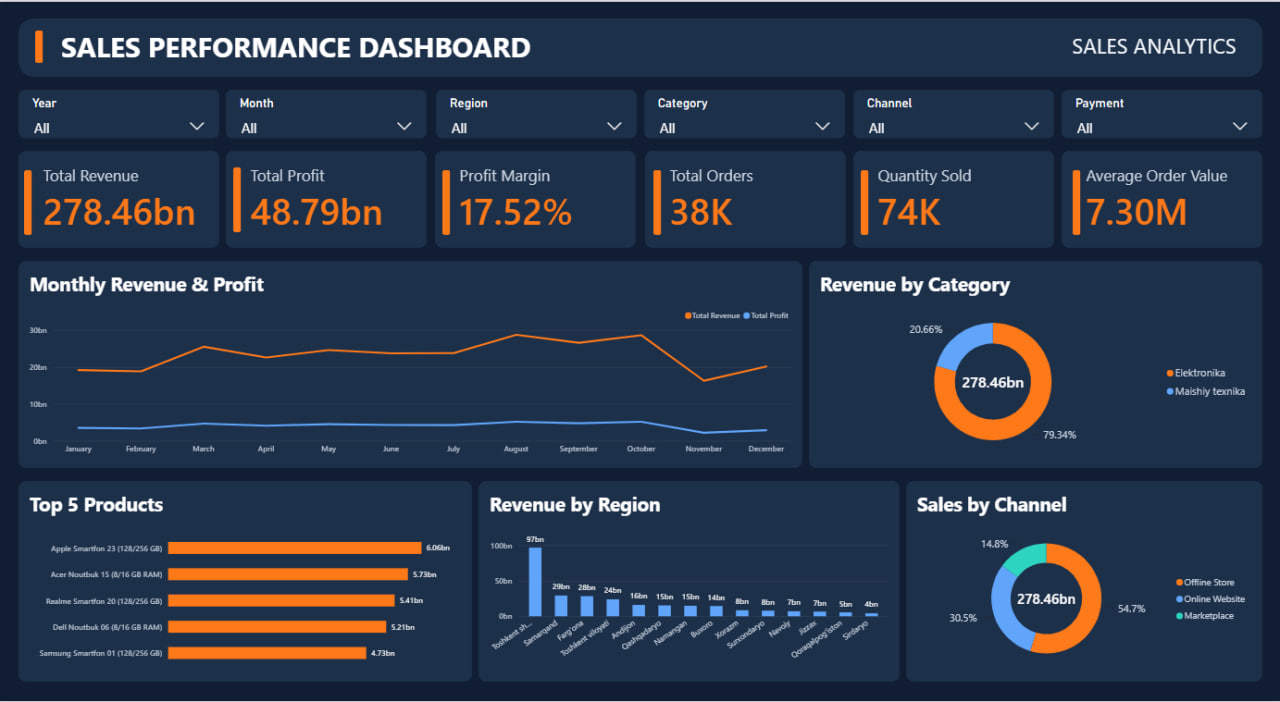

This screenshot's page, from the dashboard's own definition file:
{"tool":"powerbi","page":{"name":"Sales Overview","canvas":[1980,1080],"ordinal":0},"visuals":[{"type":"shape","box":[30,25,1920,90],"z":0},{"type":"textbox","box":[95,40,1300,60],"z":1000},{"type":"shape","box":[55,45,12,50],"z":2000},{"type":"textbox","box":[1610,45,300,50],"z":3000},{"type":"slicer","fields":{"Values":["Dim_Date.Year"]},"box":[30,135,310,75],"z":4000},{"type":"slicer","fields":{"Values":["Dim_Payment.PaymentType"]},"box":[1640,135,310,75],"z":5000},{"type":"slicer","fields":{"Values":["Dim_Channel.ChannelName"]},"box":[1318.3,135,310,75],"z":6000},{"type":"slicer","fields":{"Values":["Dim_Product.Category"]},"box":[996,135,310,75],"z":7000},{"type":"slicer","fields":{"Values":["Dim_Branch.Region"]},"box":[674,135,310,75],"z":8000},{"type":"slicer","fields":{"Values":["Dim_Date.Month"]},"box":[350,135,310,75],"z":9000},{"type":"cardVisual","fields":{"Data":["Fact_Sales.Total Revenue"]},"box":[30,230,310,150],"z":10000},{"type":"shape","box":[38,260,12,100],"z":11000},{"type":"cardVisual","fields":{"Data":["Fact_Sales.Total Profit"]},"box":[350,230,310,150],"z":12000},{"type":"cardVisual","fields":{"Data":["Fact_Sales.Profit Margin"]},"box":[673.3,230,310,150],"z":13000},{"type":"cardVisual","fields":{"Data":["Fact_Sales.Total Orders"]},"box":[996.7,230,310,150],"z":14000},{"type":"cardVisual","fields":{"Data":["Fact_Sales.Quantity Sold"]},"box":[1318.3,230,310,150],"z":15000},{"type":"cardVisual","fields":{"Data":["Fact_Sales.Average Order Value"]},"box":[1640,230,310,150],"z":16000},{"type":"shape","box":[361.7,255,12,100],"z":17000},{"type":"shape","box":[685,260,12,100],"z":18000},{"type":"shape","box":[1010,260,12,100],"z":19000},{"type":"shape","box":[1330,260,12,100],"z":20000},{"type":"shape","box":[1656.7,260,12,100],"z":21000},{"type":"lineChart","title":"Monthly Revenue & Profit","fields":{"Category":["Dim_Date.Month"],"Y":["Fact_Sales.Total Revenue","Fact_Sales.Total Profit"]},"box":[30,400,1210,320],"z":22000},{"type":"donutChart","title":"Revenue by Category","fields":{"Category":["Dim_Product.Category"],"Y":["Fact_Sales.Total Revenue"]},"box":[1250,400,700,320],"z":23000},{"type":"clusteredBarChart","title":"Top 5 Products","fields":{"Category":["Dim_Product.ProductName"],"Y":["Fact_Sales.Total Revenue"]},"box":[30,740,700,310],"z":24000},{"type":"clusteredColumnChart","title":"Revenue by Region","fields":{"Category":["Dim_Branch.Region"],"Y":["Fact_Sales.Total Revenue"]},"box":[740,740,650,310],"z":24001},{"type":"donutChart","title":"Sales by Channel","fields":{"Category":["Dim_Channel.ChannelName"],"Y":["Fact_Sales.Total Revenue"]},"box":[1400,740,550,310],"z":24002}]}

Visuals, with their boxes in screenshot pixels (x1, y1, x2, y2), scaled from the page's 1980x1080 canvas onto the 1280x702 screenshot:
shape: left=19, top=16, right=1261, bottom=75
textbox: left=61, top=26, right=902, bottom=65
shape: left=36, top=29, right=43, bottom=62
textbox: left=1041, top=29, right=1235, bottom=62
slicer - Dim_Date.Year: left=19, top=88, right=220, bottom=136
slicer - Dim_Payment.PaymentType: left=1060, top=88, right=1261, bottom=136
slicer - Dim_Channel.ChannelName: left=852, top=88, right=1053, bottom=136
slicer - Dim_Product.Category: left=644, top=88, right=844, bottom=136
slicer - Dim_Branch.Region: left=436, top=88, right=636, bottom=136
slicer - Dim_Date.Month: left=226, top=88, right=427, bottom=136
cardVisual - Fact_Sales.Total Revenue: left=19, top=150, right=220, bottom=247
shape: left=25, top=169, right=32, bottom=234
cardVisual - Fact_Sales.Total Profit: left=226, top=150, right=427, bottom=247
cardVisual - Fact_Sales.Profit Margin: left=435, top=150, right=636, bottom=247
cardVisual - Fact_Sales.Total Orders: left=644, top=150, right=845, bottom=247
cardVisual - Fact_Sales.Quantity Sold: left=852, top=150, right=1053, bottom=247
cardVisual - Fact_Sales.Average Order Value: left=1060, top=150, right=1261, bottom=247
shape: left=234, top=166, right=242, bottom=231
shape: left=443, top=169, right=451, bottom=234
shape: left=653, top=169, right=661, bottom=234
shape: left=860, top=169, right=868, bottom=234
shape: left=1071, top=169, right=1079, bottom=234
"Monthly Revenue & Profit" lineChart: left=19, top=260, right=802, bottom=468
"Revenue by Category" donutChart: left=808, top=260, right=1261, bottom=468
"Top 5 Products" clusteredBarChart: left=19, top=481, right=472, bottom=682
"Revenue by Region" clusteredColumnChart: left=478, top=481, right=899, bottom=682
"Sales by Channel" donutChart: left=905, top=481, right=1261, bottom=682
